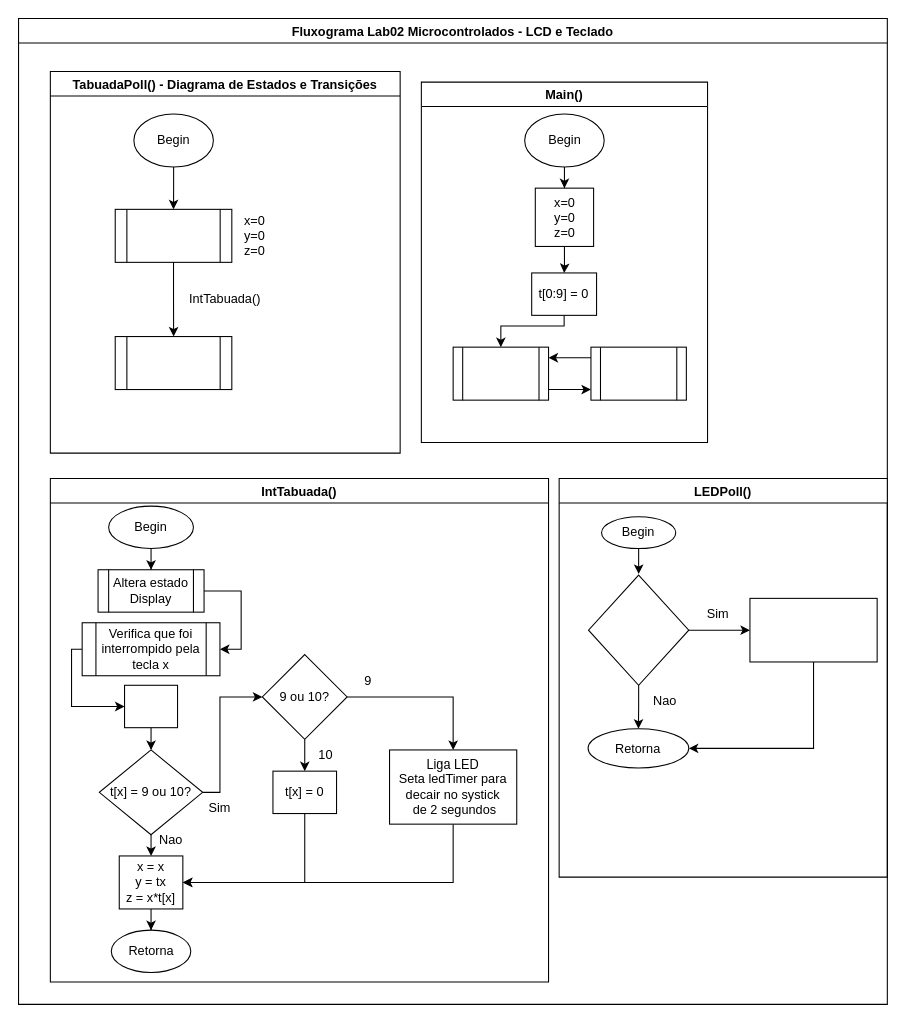
This 906x1023 diagram has some shape labels left out. The centre of each missing label's shape, as x and y in pixels:
Desliga LED ledTimer = -1: the point at 813,629
LEDPoll: the point at 638,373
ledTimer == 0: the point at 638,629
Mostra Mensagem de Inicio: the point at 173,235
Mostra x * y = z: the point at 173,362
t[x]++: the point at 150,706
TabuadaPoll: the point at 500,373
